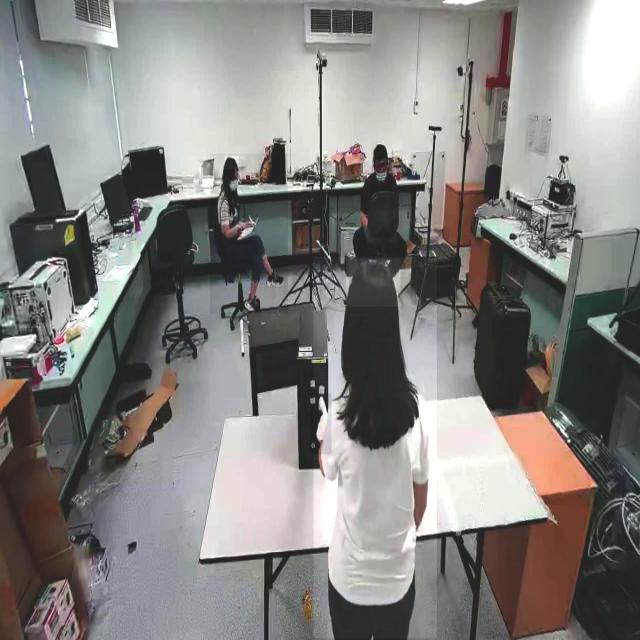face_mask: (372, 158, 392, 188), (226, 162, 242, 193)
hand_glove: (310, 393, 332, 454)
hand_noglove: (235, 222, 245, 236)
head_nohelmet: (346, 258, 400, 308), (374, 143, 388, 159), (224, 156, 238, 170)
person: (313, 257, 437, 639), (210, 153, 288, 314), (350, 145, 408, 278)
shoes: (264, 266, 286, 292)
